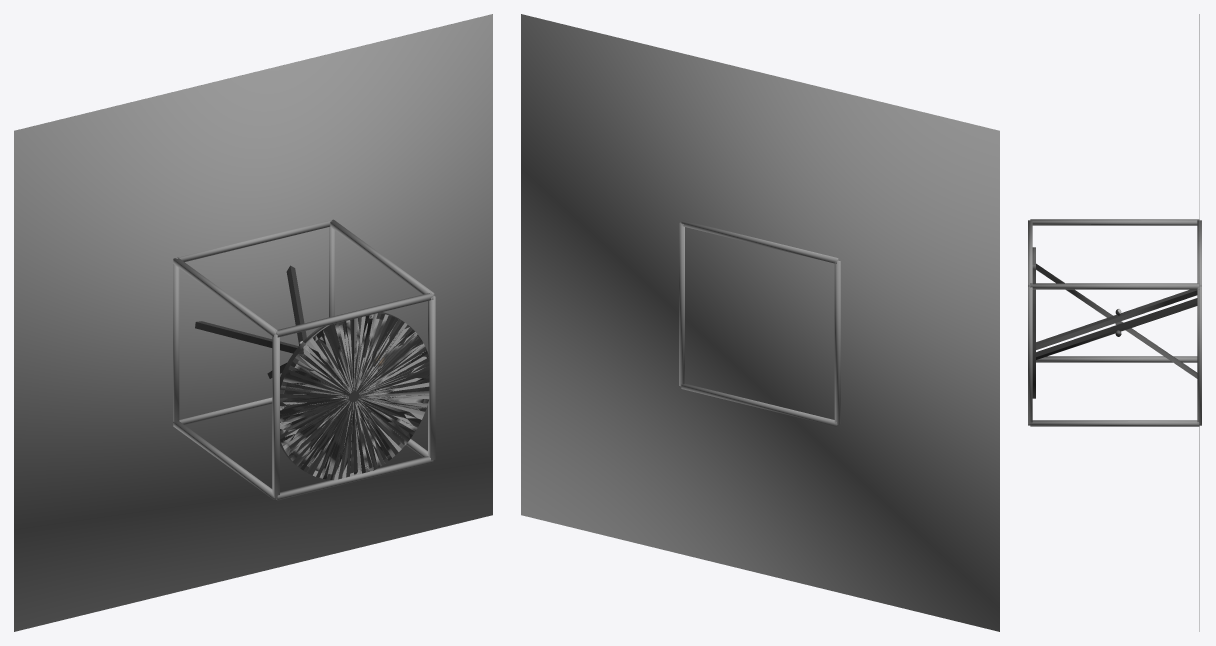
3 views of the same model, side by side, from view 1: azimuth 30°, elevation 25°; view 2: azimuth 150°, elevation 25°; view 3: azimuth 270°, elevation 25° (orthographic). The views are drawn at different scales.
Bounding box in the file's own units: 2 × 2 × 0.7476.
